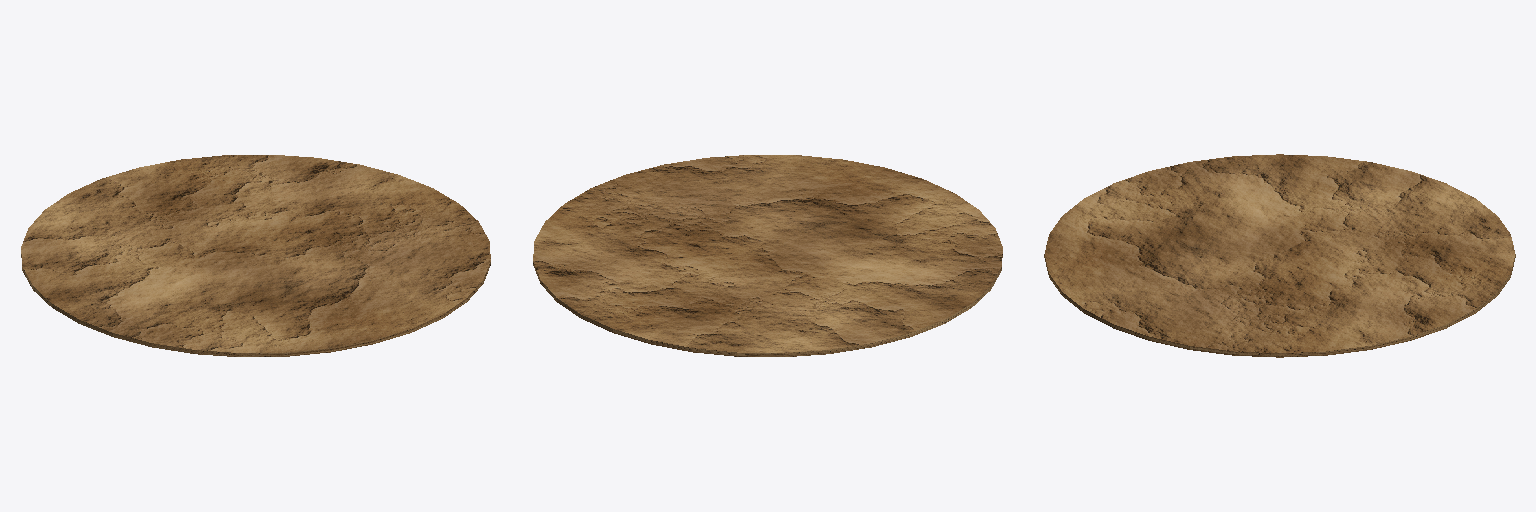
3 views of the same model, side by side, from view 1: azimuth 30°, elevation 25°; view 2: azimuth 150°, elevation 25°; view 3: azimuth 270°, elevation 25° (orthographic).
Parts seen in each view (by area): view 1: 円柱; view 2: 円柱; view 3: 円柱.
Part boxes in pixels (bbox=[...]): 円柱: bbox=[21, 155, 490, 356]; 円柱: bbox=[533, 155, 1002, 356]; 円柱: bbox=[1044, 154, 1515, 357].
Size of the model in its own units: 99.94 by 1 by 99.94.
1 materials, 1 textured.